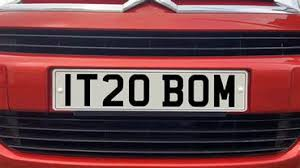number_plate: (45, 62, 258, 126)
